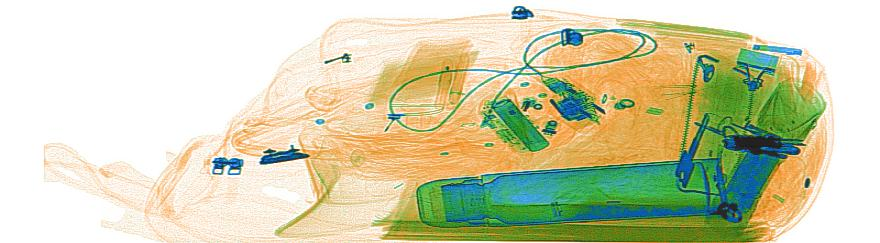battery: (718, 125, 786, 213), (492, 98, 549, 152)
